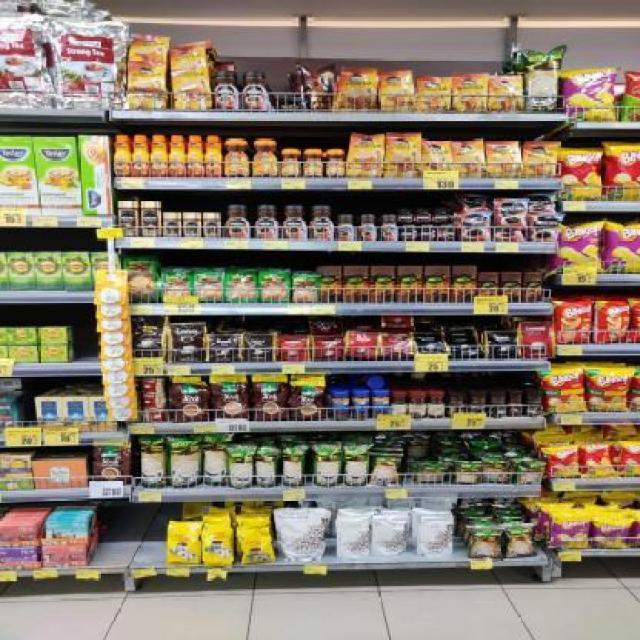Coffee: (128, 61, 166, 109), (172, 67, 211, 110), (341, 68, 377, 112), (385, 134, 421, 178), (348, 134, 384, 178), (380, 72, 414, 110), (453, 74, 487, 112), (416, 77, 450, 113), (489, 76, 522, 112), (487, 141, 520, 177), (524, 142, 557, 178), (452, 141, 484, 177), (214, 71, 242, 112), (421, 141, 451, 177), (223, 138, 251, 176), (252, 139, 280, 177), (243, 72, 269, 111), (253, 205, 281, 239), (307, 205, 335, 239), (527, 213, 561, 241), (495, 200, 527, 229), (281, 205, 308, 239), (459, 212, 490, 241), (225, 205, 252, 238), (140, 201, 163, 237), (167, 134, 187, 175), (187, 136, 205, 178), (117, 201, 139, 235), (204, 136, 223, 175), (150, 134, 168, 175), (114, 134, 131, 176), (133, 135, 150, 177), (281, 149, 303, 177), (323, 150, 345, 176), (201, 213, 222, 239), (358, 215, 379, 241), (304, 150, 324, 177), (336, 215, 358, 239), (162, 212, 182, 238), (379, 214, 399, 240), (183, 213, 203, 237), (434, 207, 452, 223), (439, 225, 457, 241), (398, 208, 415, 224), (402, 224, 419, 240), (420, 225, 437, 241), (416, 208, 432, 224)
